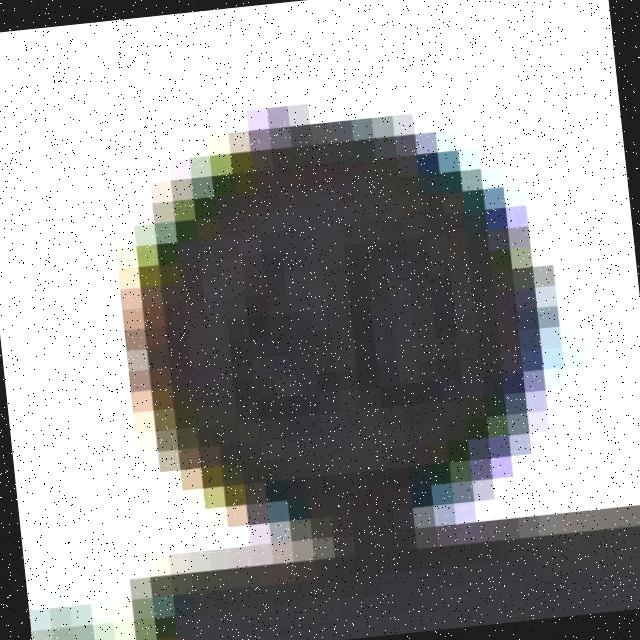Ograniczenie predkosci do 60: (51, 34, 634, 626)
